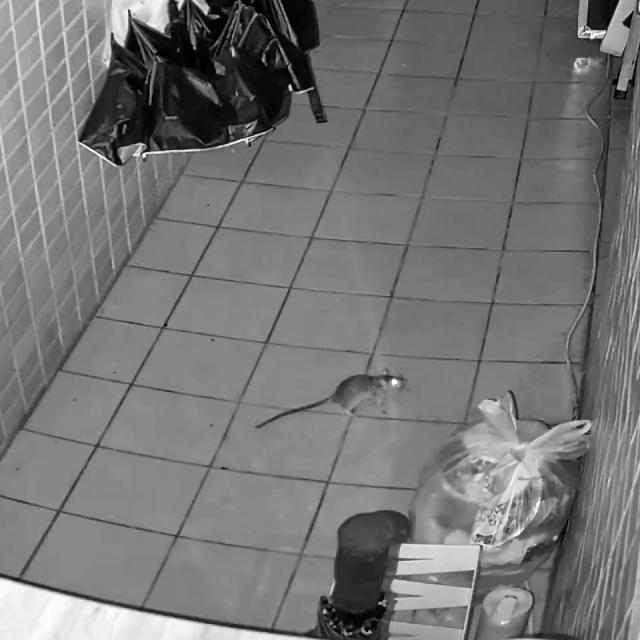rat: (253, 367, 409, 432)
